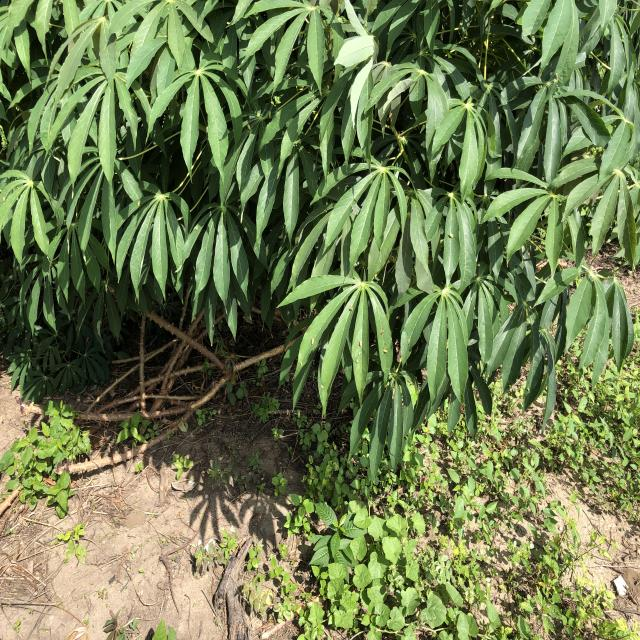Maleza: (308, 491, 640, 640), (436, 414, 635, 512), (13, 376, 92, 520)
Mosca: (355, 339, 369, 362), (444, 227, 460, 242), (381, 347, 394, 364), (305, 331, 318, 345), (348, 297, 355, 317)
